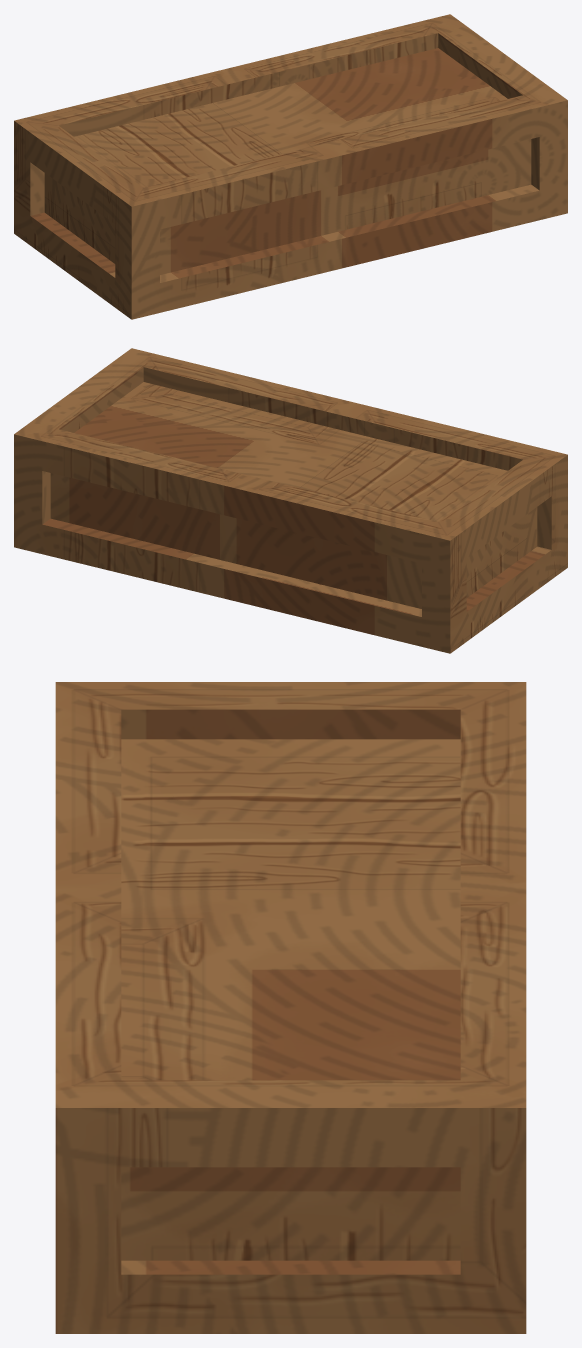
Rendered from Caixa Baixa.fbx.
The picture shows the model from 3 angles, top to bottom: view 1: azimuth 30°, elevation 25°; view 2: azimuth 150°, elevation 25°; view 3: azimuth 270°, elevation 25°; orthographic projection. The views are drawn at different scales.
Visible parts, largest first — view 1: pCube1; view 2: pCube1; view 3: pCube1.
Boxes of the visible parts, <box> form: pCube1: <box>14,14,567,319</box>; pCube1: <box>14,348,567,653</box>; pCube1: <box>55,682,526,1333</box>.
Size of the model in its own units: 4.61 by 1.14 by 2.15.
